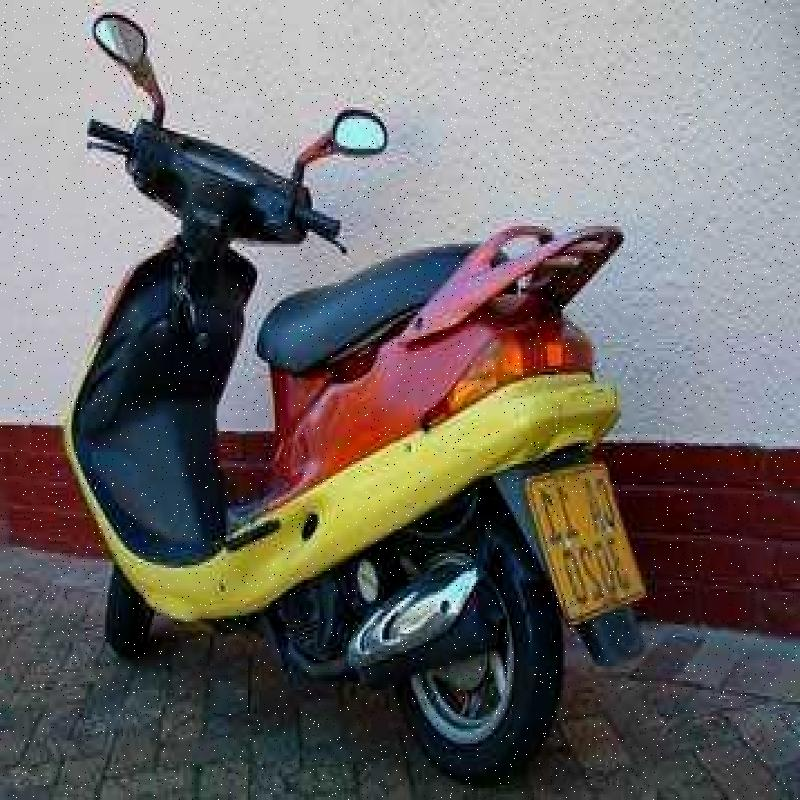bike: (65, 10, 626, 769)
